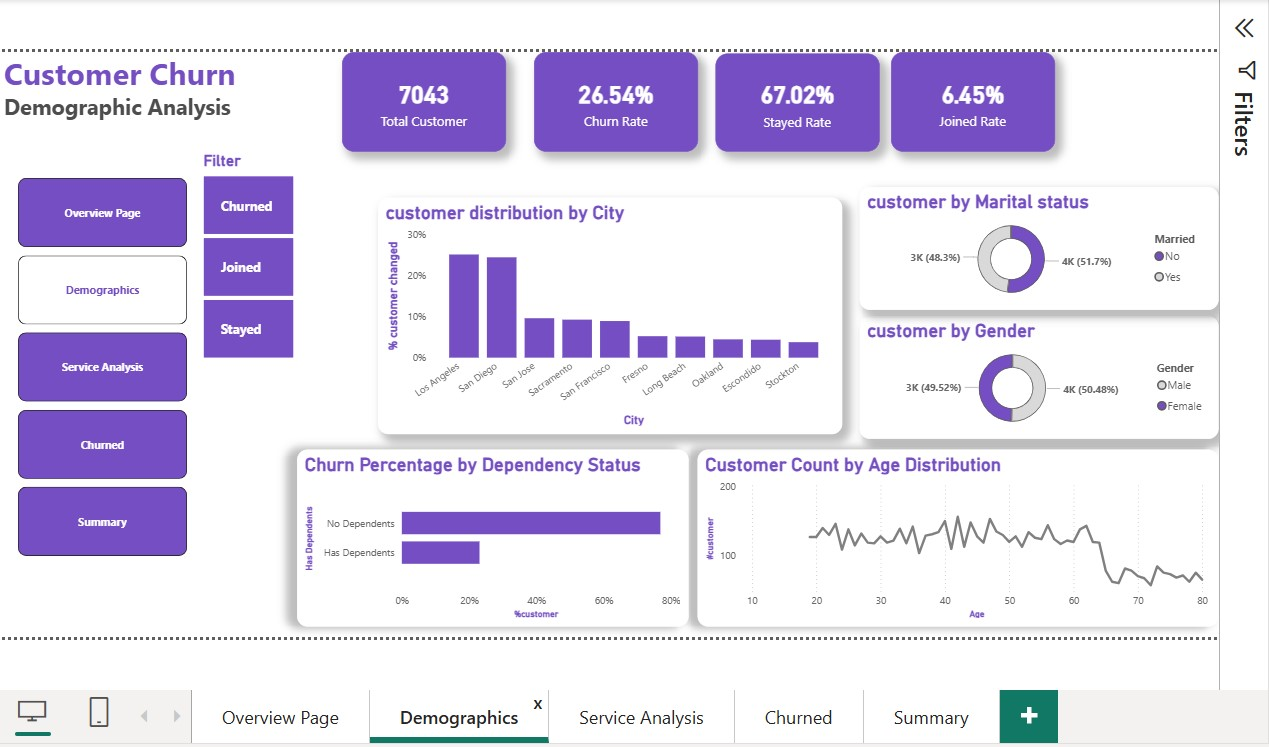

This screenshot's page, from the dashboard's own definition file:
{"tool":"powerbi","page":{"name":"Demographics","canvas":[1500,720],"ordinal":1},"visuals":[{"type":"donutChart","title":"customer by Gender","fields":{"Category":["telecom_customer_churn.Gender"],"Y":["Measure_Table.#customer"]},"box":[1057.8,324.5,442.2,151.1],"z":0},{"type":"donutChart","title":"customer by Marital status","fields":{"Category":["telecom_customer_churn.Married"],"Y":["Measure_Table.#customer"]},"box":[1057.8,167,442.2,151.1],"z":1000},{"type":"lineChart","title":"Customer Count by Age Distribution","fields":{"Category":["telecom_customer_churn.Age"],"Y":["Measure_Table.#customer"]},"box":[858.9,489.9,641,217.9],"z":2000},{"type":"textbox","box":[0,0,408.8,120.9],"z":3000},{"type":"advancedSlicerVisual","title":"Filter","fields":{"Values":["telecom_customer_churn.Customer Status"]},"box":[245,122.5,120.9,259.3],"z":4000},{"type":"columnChart","title":"customer distribution by City","fields":{"Category":["telecom_customer_churn.City"],"Y":["Measure_Table.% customer changed"]},"box":[464.5,178.1,571,291.1],"z":5000},{"type":"barChart","title":"Churn Percentage by Dependency Status","fields":{"Category":["telecom_customer_churn.Has Dependents"],"Y":["Measure_Table.% customer changed"]},"box":[365.8,489.9,482,217.9],"z":6000},{"type":"card","fields":{"Values":["Measure_Table.#customer"]},"box":[419.9,0,202,122.5],"z":7000},{"type":"card","fields":{"Values":["Measure_Table.churn%"]},"box":[656.9,0,202,122.5],"z":8000},{"type":"card","fields":{"Values":["Measure_Table.%stayed"]},"box":[879.6,1.6,202,120.9],"z":9000},{"type":"card","fields":{"Values":["Measure_Table.joined%"]},"box":[1095.9,0,202,122.5],"z":10000},{"type":"pageNavigator","box":[22,155,208.4,466],"z":11000}]}

Visuals, with their boxes on the page's 1500x720 design canvas (x1, y1, x2, y2). These are canvas units, not pixel positions in the 1269x747 screenshot, which may show the page scaled, cropped or inside an application window:
"customer by Gender" donutChart: 1058, 324, 1500, 476
"customer by Marital status" donutChart: 1058, 167, 1500, 318
"Customer Count by Age Distribution" lineChart: 859, 490, 1500, 708
textbox: 0, 0, 409, 121
"Filter" advancedSlicerVisual: 245, 122, 366, 382
"customer distribution by City" columnChart: 464, 178, 1036, 469
"Churn Percentage by Dependency Status" barChart: 366, 490, 848, 708
card - Measure_Table.#customer: 420, 0, 622, 122
card - Measure_Table.churn%: 657, 0, 859, 122
card - Measure_Table.%stayed: 880, 2, 1082, 122
card - Measure_Table.joined%: 1096, 0, 1298, 122
pageNavigator: 22, 155, 230, 621
